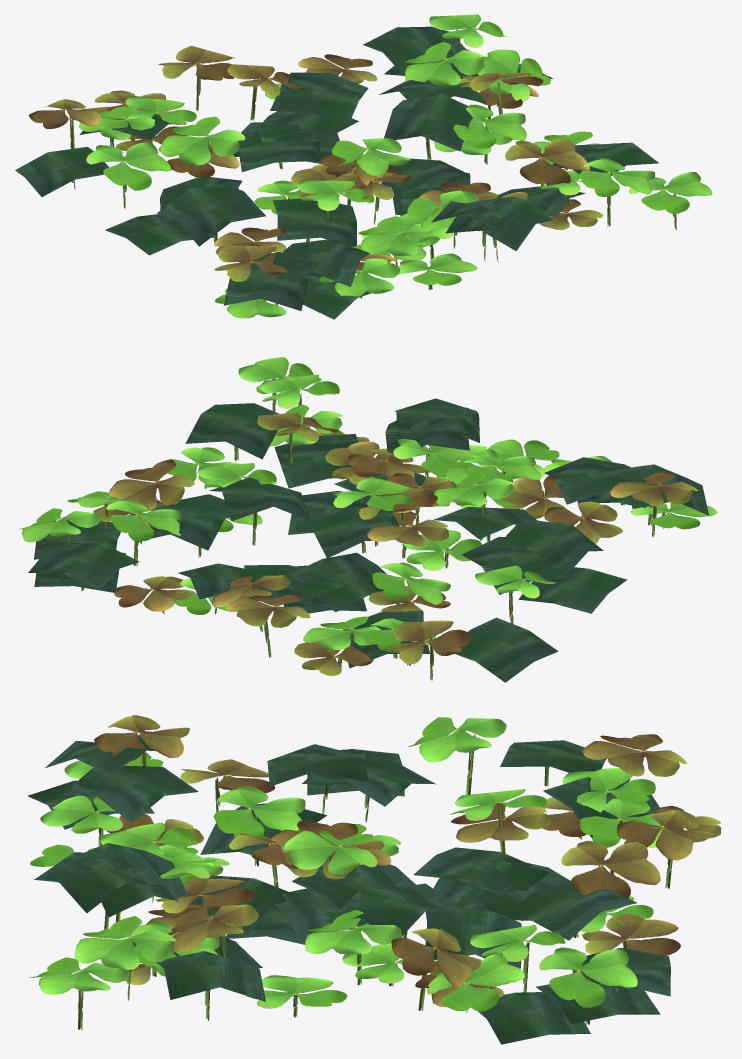
Rendered from cloverfe.obj.
3 renders of one model, top to bottom at view 1: azimuth 30°, elevation 25°; view 2: azimuth 150°, elevation 25°; view 3: azimuth 270°, elevation 25°, orthographic. The views are drawn at different scales.
Parts seen in each view (by area): view 1: Plant1; view 2: Plant1; view 3: Plant1.
Part boxes in pixels (bbox=[...]): Plant1: bbox=[15, 14, 712, 319]; Plant1: bbox=[18, 357, 717, 682]; Plant1: bbox=[27, 715, 721, 1044].
Size of the model in its own units: 243 by 27.45 by 243.
